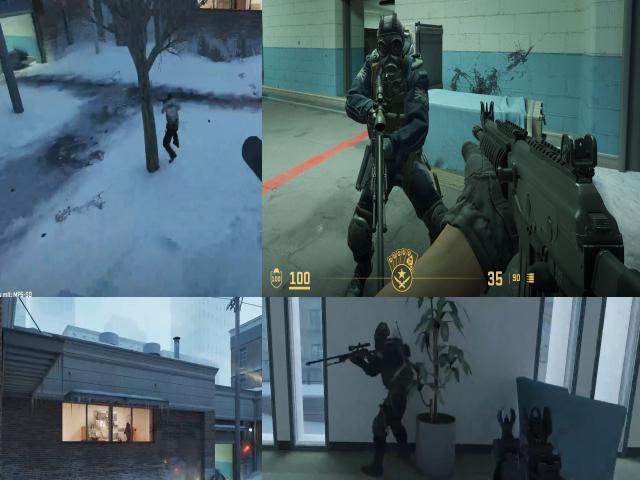CT: (359, 17, 431, 277), (366, 314, 414, 413), (125, 422, 132, 442)
CT-Head: (376, 16, 404, 66), (371, 317, 403, 354)
T: (163, 96, 179, 136)
T-Head: (162, 92, 175, 111)
